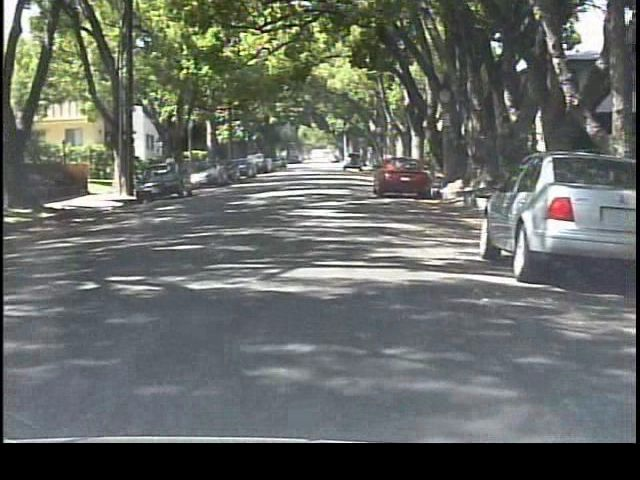person: (161, 152, 181, 188)
